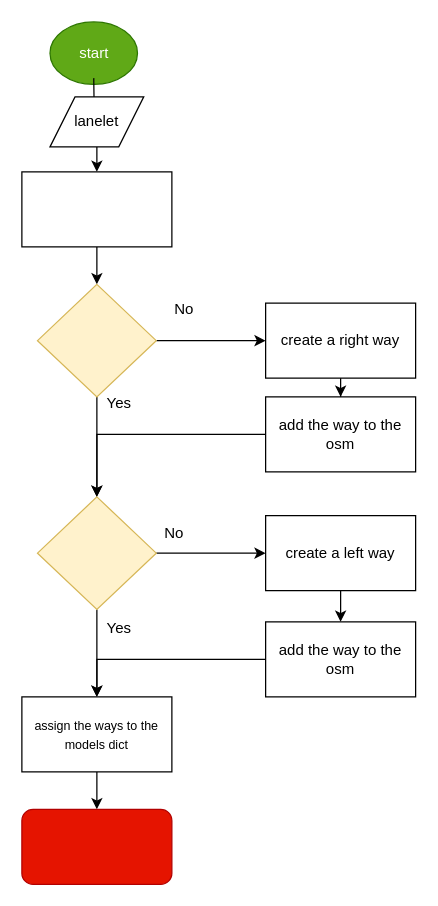
This 438x906 diagram has some shape labels left out. The shapes that lost their labels are listed below. From the top down, each one's centre as x and y in pixels, then its label:
At (x=96, y=209): "create nodes".
At (x=96, y=340): "right way exists".
At (x=96, y=552): "left way exists".
At (x=96, y=846): "add the way relation to the osm".
